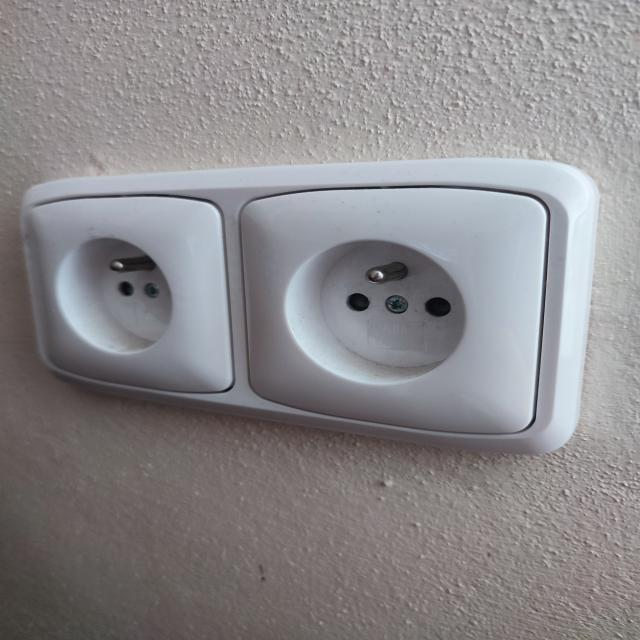house plug: (268, 224, 498, 408), (39, 229, 199, 366)
